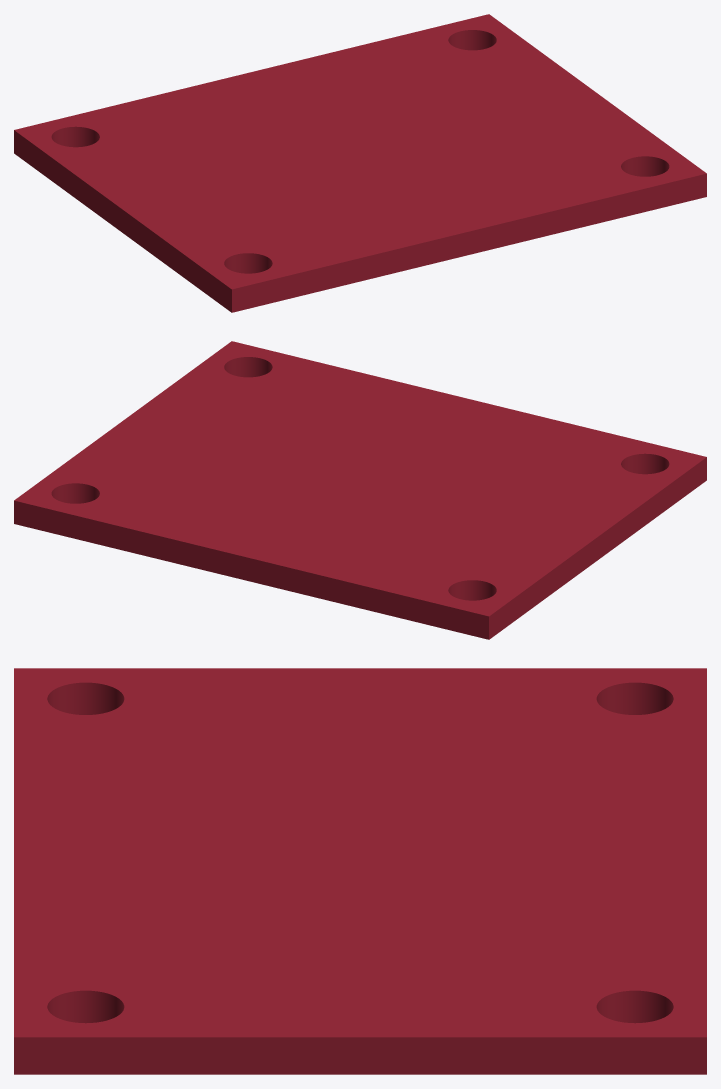
Rendered from relay-module-1ch.glb.
3 renders of one model, top to bottom at view 1: azimuth 30°, elevation 25°; view 2: azimuth 150°, elevation 25°; view 3: azimuth 270°, elevation 25°, orthographic. The views are drawn at different scales.
Size of the model in its own units: 0.034 by 0.0016 by 0.027.
